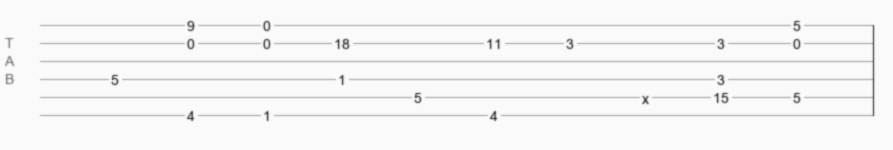0: (187, 36, 195, 46), (263, 36, 271, 46), (263, 18, 271, 28), (793, 36, 801, 46)
1: (263, 108, 271, 118), (338, 72, 346, 82)
11: (486, 36, 502, 46)
15: (713, 90, 729, 100)
18: (334, 36, 350, 46)
3: (566, 36, 574, 46), (717, 72, 725, 82), (717, 36, 725, 46)
4: (187, 108, 195, 118), (490, 108, 498, 118)
5: (111, 72, 119, 82), (414, 90, 422, 100), (793, 18, 801, 28), (793, 90, 801, 100)
9: (187, 18, 195, 28)
x: (642, 91, 649, 99)
